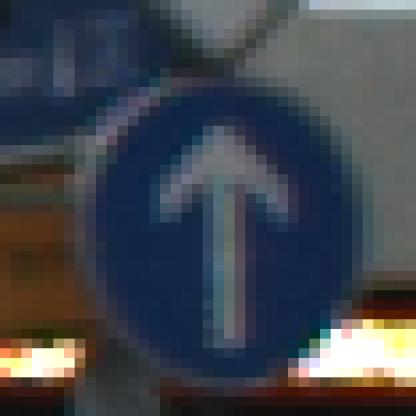AheadOnly: (65, 49, 364, 359)
